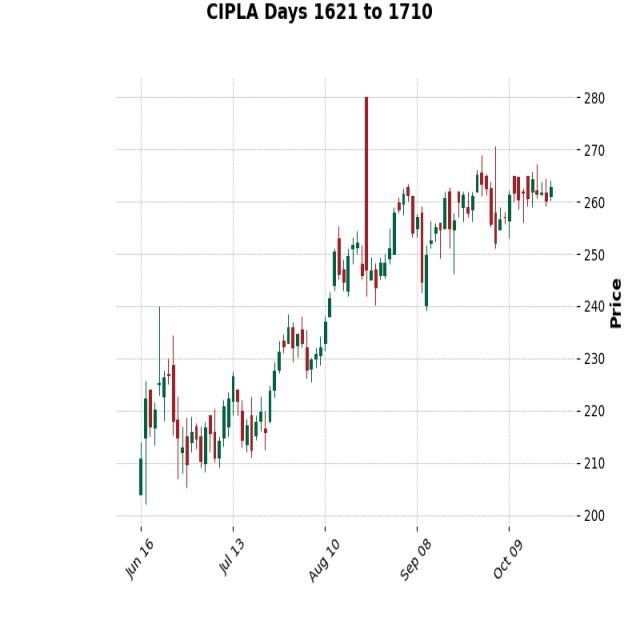Ascending Triangle: (388, 134, 562, 307)
